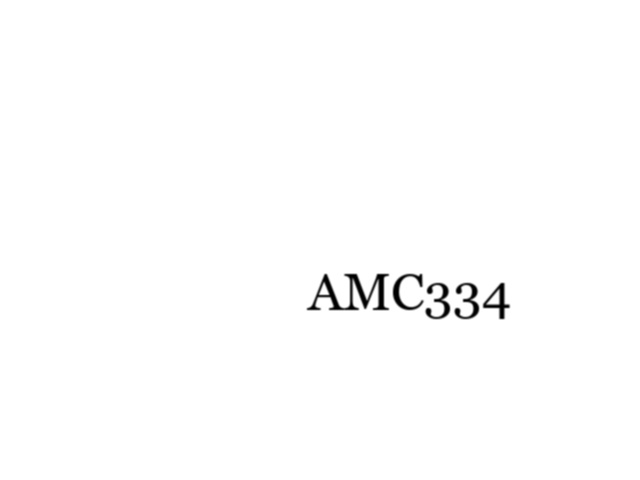OCR_AREA: (302, 270, 515, 323)
